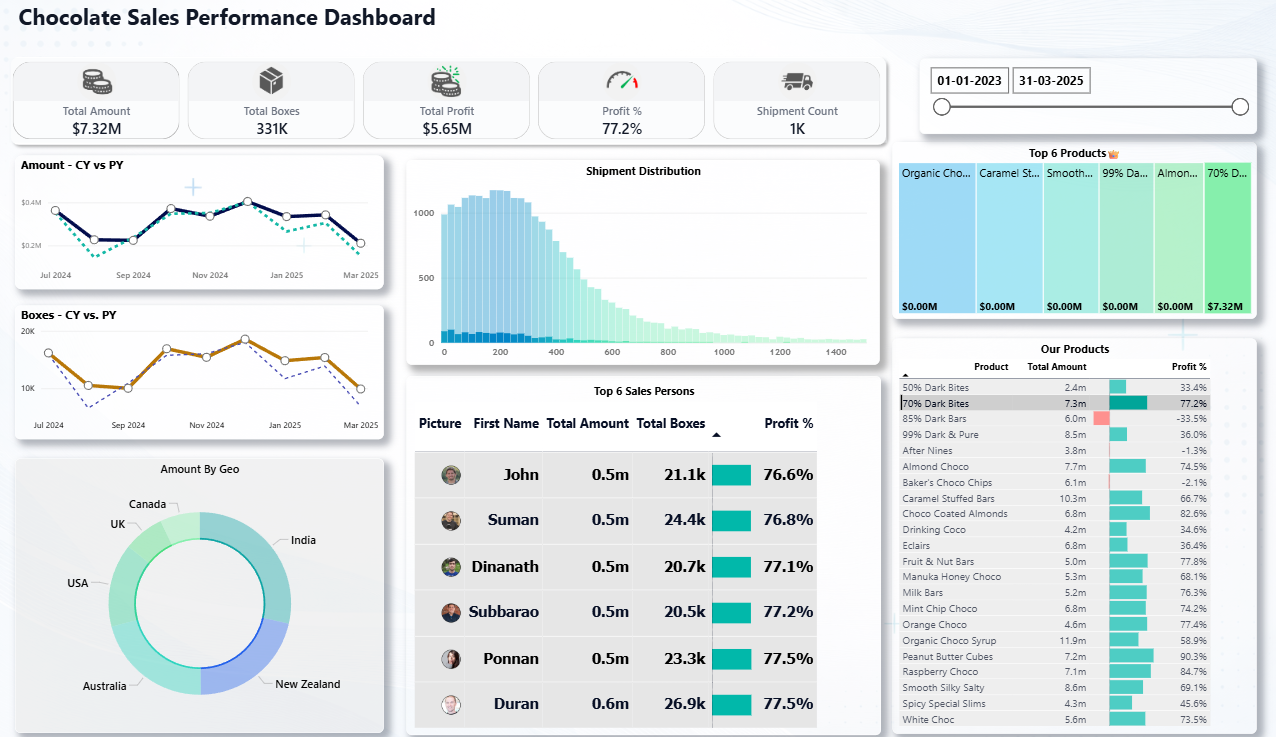

The page's visual inventory and layout, read from the dashboard file:
{"tool":"powerbi","page":{"name":"Page 8","canvas":[1871,1080],"ordinal":7},"visuals":[{"type":"lineChart","title":"Amount - CY vs PY","fields":{"Category":["calendar.Start of Month"],"Y":["shipments.Total Amount","shipments.Total Amount(Last Year)"]},"box":[107.5,167.5,502.5,197.5],"z":0},{"type":"lineChart","title":"Boxes - CY vs. PY","fields":{"Category":["calendar.Start of Month"],"Y":["shipments.Total Boxes","shipments.Total Boxes(Last Year)"]},"box":[107.5,390,502.5,197.5],"z":1000},{"type":"donutChart","title":"Amount By Geo","fields":{"Category":["locations.Geo"],"Y":["shipments.Total Amount"]},"box":[107.5,615,502.5,405],"z":2000},{"type":"clusteredColumnChart","title":"Shipment Distribution","fields":{"Category":["shipments.Boxes (bins)"],"Y":["shipments.Shipment Count"]},"box":[640,167.5,645,302.5],"z":3000},{"type":"tableEx","title":"Top 6 Sales Persons","fields":{"Values":["people.Picture","people.First Name","shipments.Total Amount","shipments.Total Boxes","shipments.Profit %"]},"box":[640,493.3,646.7,530],"z":4000},{"type":"treemap","title":"Top 6 Products👑","fields":{"Group":["products.Product"],"Values":["shipments.Total Amount"]},"box":[1310,193.3,460,220],"z":5000},{"type":"tableEx","title":"Our Products","fields":{"Values":["products.Product","shipments.Total Amount","shipments.Profit %"]},"box":[1310,440,460,583.3],"z":5001},{"type":"cardVisual","fields":{"Data":["shipments.Total Amount","shipments.Total Boxes","shipments.Total Profit","shipments.Profit %","shipments.Shipment Count"]},"box":[106.7,46.7,1180,86.7],"z":5002},{"type":"slicer","fields":{"Values":["calendar.cal_date"]},"box":[1310,46.7,460,86.7],"z":5003}]}

Visuals, with their boxes in screenshot pixels (x1, y1, x2, y2), scaled from the page's 1871x1080 canvas onto the 1276x737 screenshot:
"Amount - CY vs PY" lineChart: 73,114,416,249
"Boxes - CY vs. PY" lineChart: 73,266,416,401
"Amount By Geo" donutChart: 73,420,416,696
"Shipment Distribution" clusteredColumnChart: 436,114,876,321
"Top 6 Sales Persons" tableEx: 436,337,878,698
"Top 6 Products👑" treemap: 893,132,1207,282
"Our Products" tableEx: 893,300,1207,698
cardVisual - shipments.Total Amount x shipments.Total Boxes: 73,32,878,91
slicer - calendar.cal_date: 893,32,1207,91
